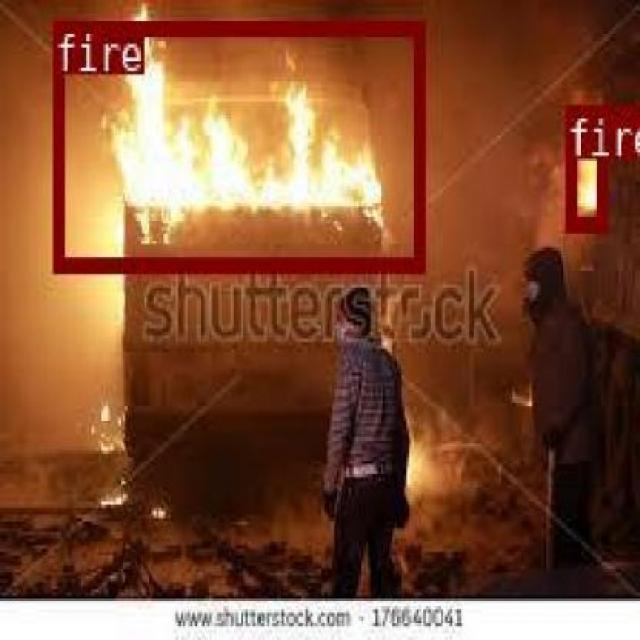fire: (51, 17, 424, 270), (563, 104, 606, 228)
